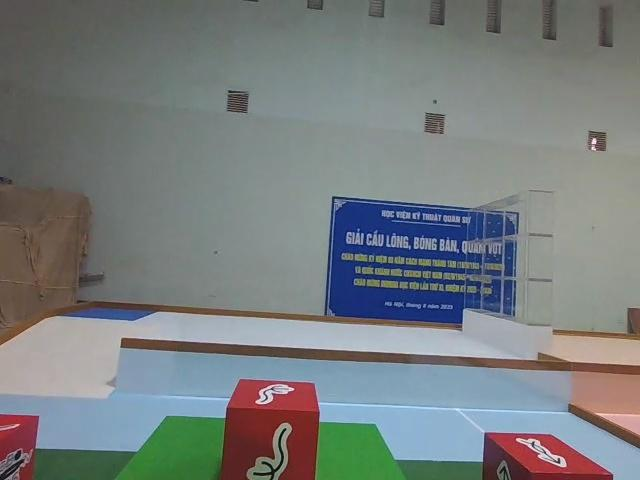R1: (0, 411, 41, 480)
R2 Real: (222, 377, 321, 480), (480, 429, 613, 480)
